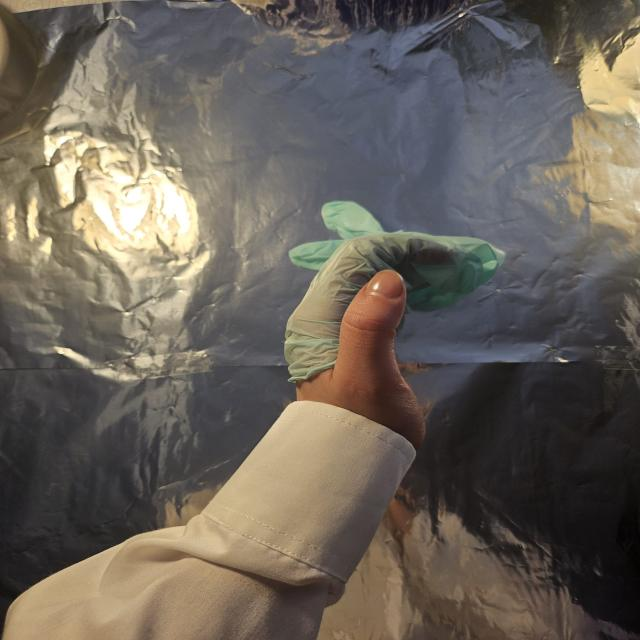glove_partial: (279, 198, 505, 456)
